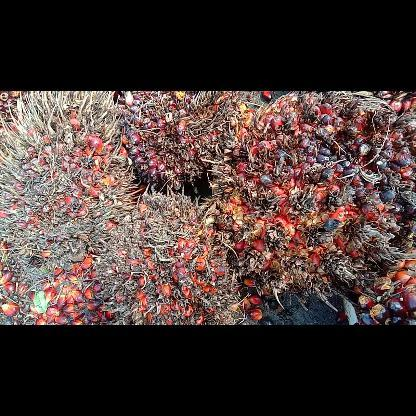Terlalu masak: (207, 90, 415, 302), (0, 90, 146, 266), (89, 186, 248, 324), (121, 91, 255, 189)
